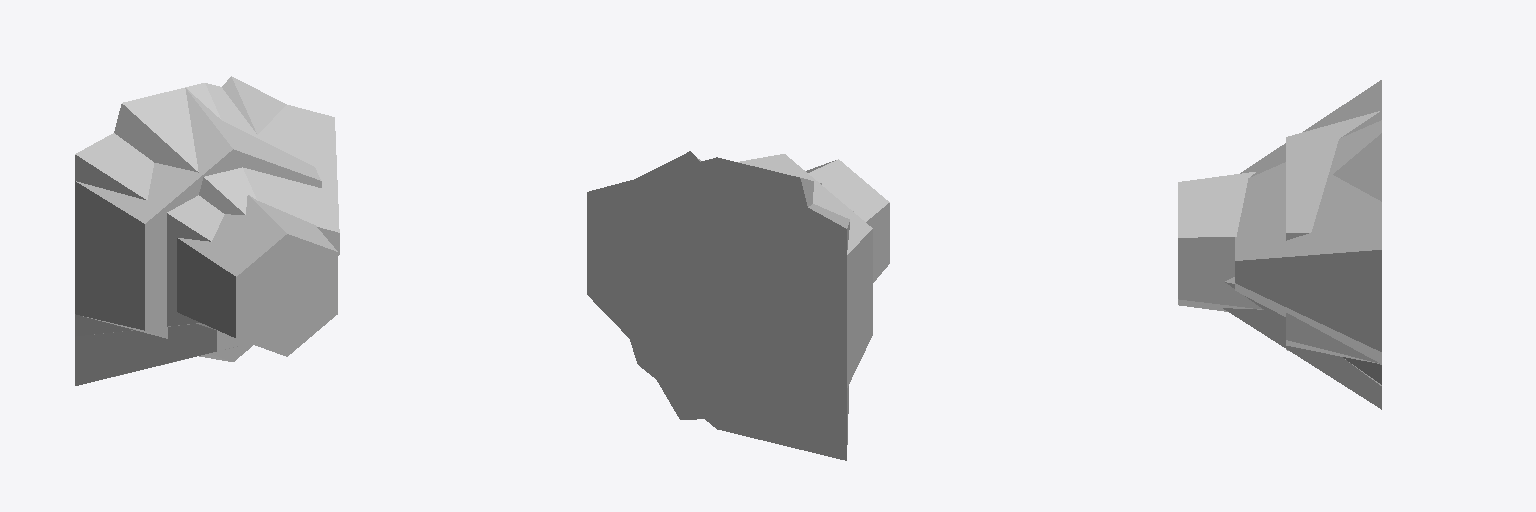
The model's file is rock1.obj.
3 renders of one model, left to right at view 1: azimuth 30°, elevation 25°; view 2: azimuth 150°, elevation 25°; view 3: azimuth 270°, elevation 25°, orthographic.
Visible parts, largest first — view 1: Mesh1_Rock_3_Model, Mesh1_Rock_5_Model, Mesh1_Rock_4_Model, Mesh1_Rock_6_Model; view 2: Mesh1_Rock_3_Model, Mesh1_Rock_6_Model, Mesh1_Rock_5_Model, Mesh1_Rock_4_Model; view 3: Mesh1_Rock_5_Model, Mesh1_Rock_3_Model, Mesh1_Rock_4_Model, Mesh1_Rock_6_Model.
Boxes of the visible parts, x1,y1,x2,y2 form: Mesh1_Rock_3_Model: [75, 88, 337, 361]; Mesh1_Rock_5_Model: [75, 83, 339, 385]; Mesh1_Rock_4_Model: [75, 133, 224, 336]; Mesh1_Rock_6_Model: [222, 76, 286, 134]; Mesh1_Rock_3_Model: [626, 154, 889, 428]; Mesh1_Rock_6_Model: [587, 151, 845, 428]; Mesh1_Rock_5_Model: [587, 157, 848, 460]; Mesh1_Rock_4_Model: [587, 159, 853, 419]; Mesh1_Rock_5_Model: [1235, 80, 1381, 364]; Mesh1_Rock_3_Model: [1178, 111, 1379, 363]; Mesh1_Rock_4_Model: [1223, 277, 1381, 409]; Mesh1_Rock_6_Model: [1333, 133, 1381, 385].
Size of the model in its own units: 7.73 by 7.73 by 5.25.